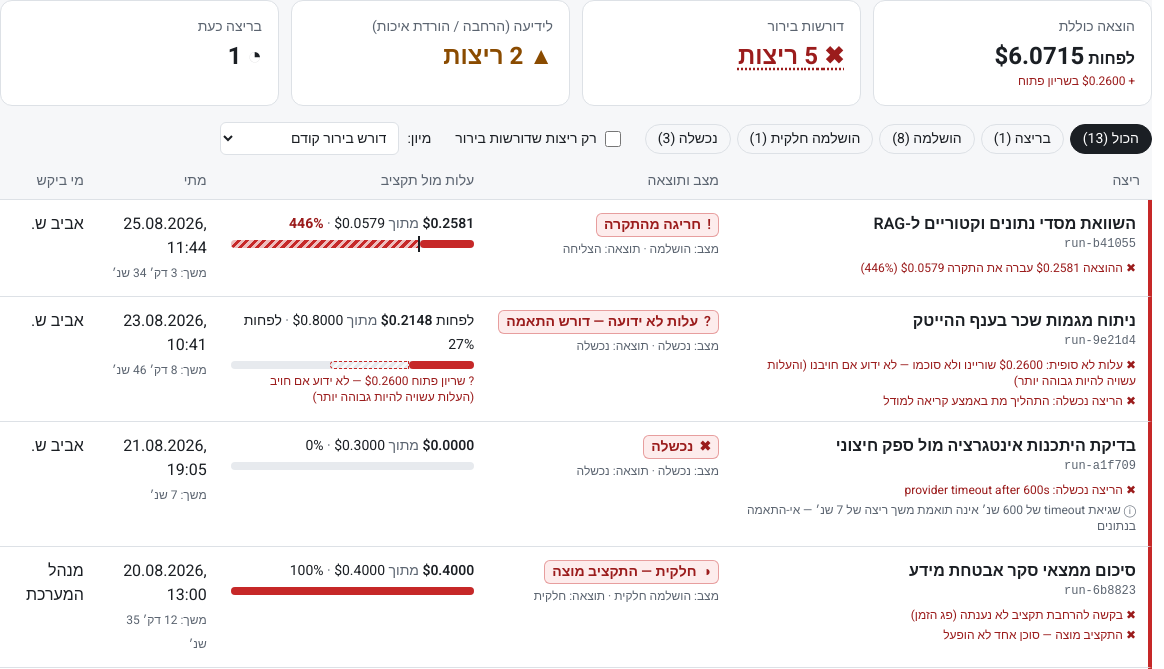
Test case: <RunsTable /> › status filter counts follow the attention-only switch
Check: the button "הכול (13)" is shown, box [1070,124,1152,154]
Click the checkbox labelled "רק ריצות שדורשות בירור".
click(613, 138)  # box [605,130,621,146]
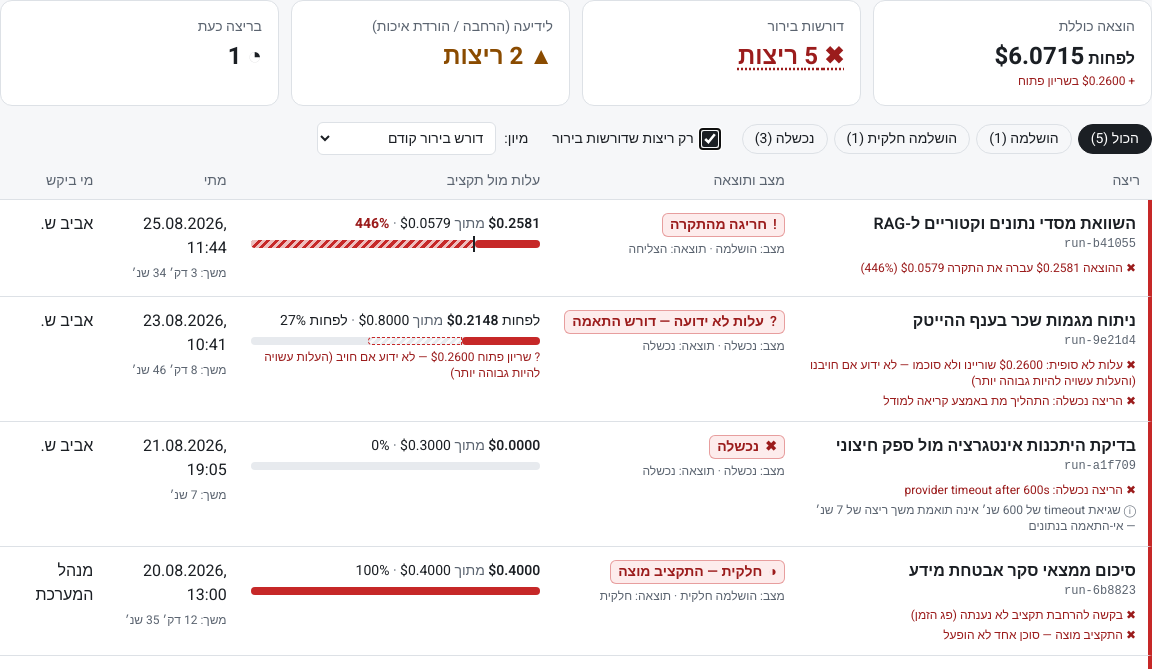
Check: the button "נכשלה (3)" is shown, box [742,124,828,154]
Check: the button "הכול (5)" is shown, box [1078,124,1152,154]
Check: the button "הושלמה (1)" is shown, box [976,124,1072,154]
